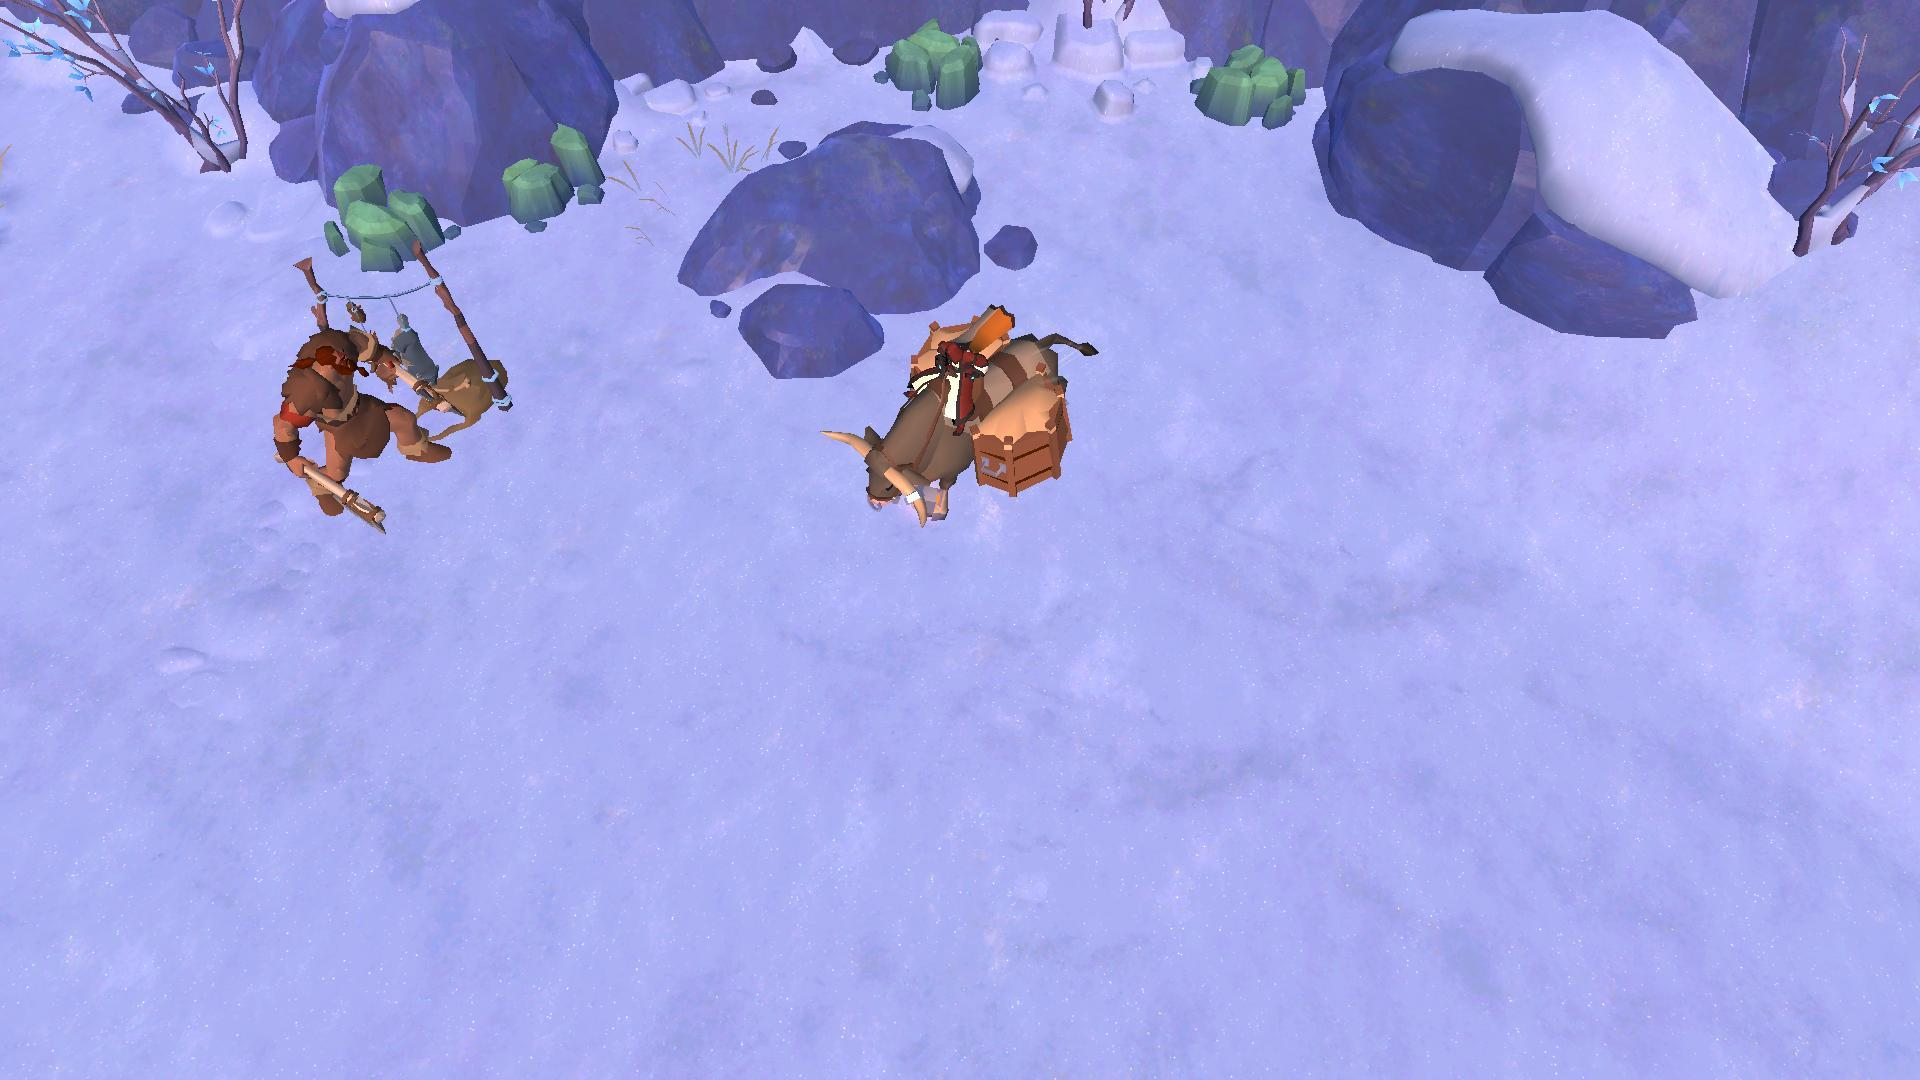enemy_factionKeeper: (270, 323, 450, 517)
rock_t3: (319, 160, 462, 270), (1179, 38, 1316, 136), (496, 117, 612, 231), (866, 16, 988, 115)
